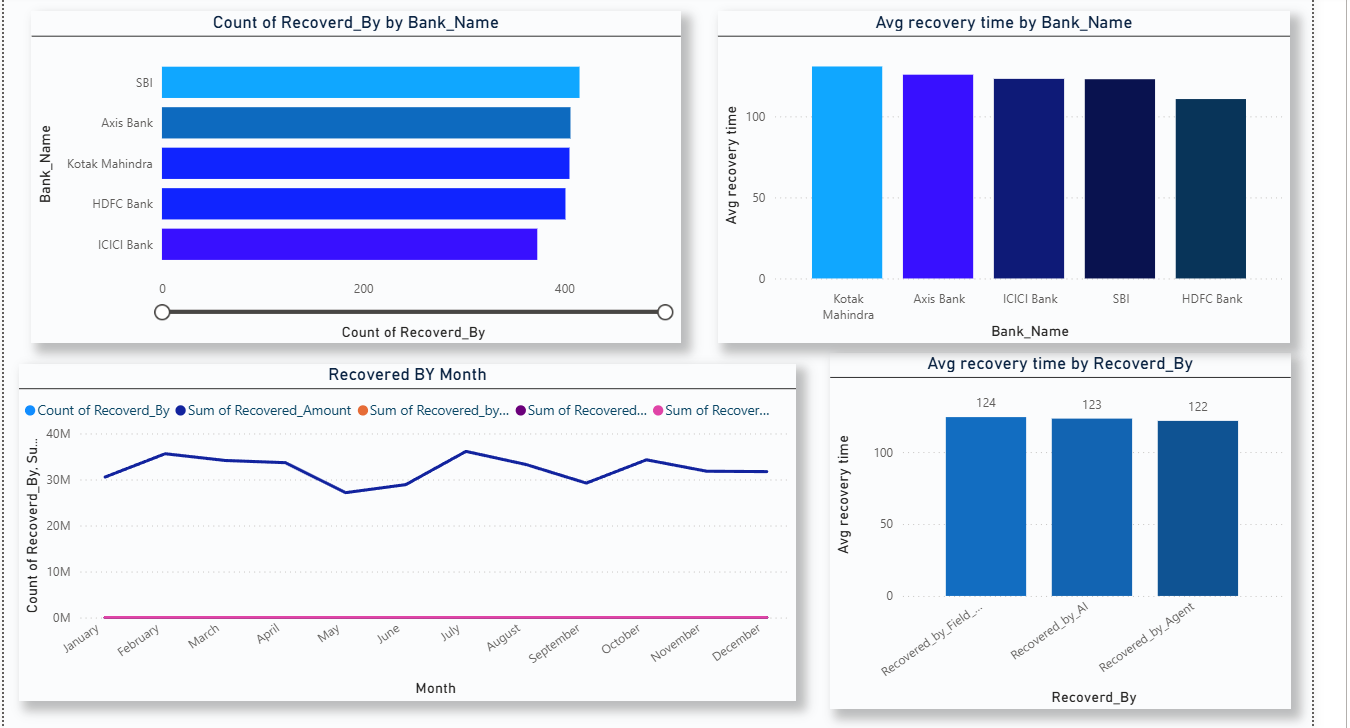

The page's visual inventory and layout, read from the dashboard file:
{"tool":"powerbi","page":{"name":"Page 3","canvas":[1280,720],"ordinal":3},"visuals":[{"type":"barChart","fields":{"Category":["Bank_Loan_Recovery_Data_2000_AI_Enhanced.Bank_Name"],"Y":["CountNonNull(Bank_Loan_Recovery_Data_2000_AI_Enhanced.Recoverd_By)"]},"box":[27.5,16.2,635,325],"z":0},{"type":"lineChart","title":"Recovered BY Month","fields":{"Category":["Bank_Loan_Recovery_Data_2000_AI_Enhanced.Recovered_Date.Variation.Date Hierarchy.Month"],"Y":["CountNonNull(Bank_Loan_Recovery_Data_2000_AI_Enhanced.Recoverd_By)","Sum(Bank_Loan_Recovery_Data_2000_AI_Enhanced.Recovered_Amount)","Sum(Bank_Loan_Recovery_Data_2000_AI_Enhanced.Recovered_by_Agent)","Sum(Bank_Loan_Recovery_Data_2000_AI_Enhanced.Recovered_by_AI)","Sum(Bank_Loan_Recovery_Data_2000_AI_Enhanced.Recovered_by_Field_Agent)"]},"box":[14.7,360.3,760.3,329.4],"z":1000},{"type":"columnChart","fields":{"Category":["Bank_Loan_Recovery_Data_2000_AI_Enhanced.Recoverd_By"],"Y":["Bank_Loan_Recovery_Data_2000_AI_Enhanced.Avg recovery time"]},"box":[808.8,350,450,348.8],"z":2000},{"type":"columnChart","fields":{"Category":["Bank_Loan_Recovery_Data_2000_AI_Enhanced.Bank_Name"],"Y":["Bank_Loan_Recovery_Data_2000_AI_Enhanced.Avg recovery time"]},"box":[698.8,16.2,560,325],"z":3000}]}

Visuals, with their boxes on the page's 1280x720 design canvas (x1, y1, x2, y2). These are canvas units, not pixel positions in the 1350x728 screenshot, which may show the page scaled, cropped or inside an application window:
barChart - Bank_Loan_Recovery_Data_2000_AI_Enhanced.Bank_Name x CountNonNull(Bank_Loan_Recovery_Data_2000_AI_Enhanced.Recoverd_By): box=[28, 16, 662, 341]
"Recovered BY Month" lineChart: box=[15, 360, 775, 690]
columnChart - Bank_Loan_Recovery_Data_2000_AI_Enhanced.Recoverd_By x Bank_Loan_Recovery_Data_2000_AI_Enhanced.Avg recovery time: box=[809, 350, 1259, 699]
columnChart - Bank_Loan_Recovery_Data_2000_AI_Enhanced.Bank_Name x Bank_Loan_Recovery_Data_2000_AI_Enhanced.Avg recovery time: box=[699, 16, 1259, 341]
